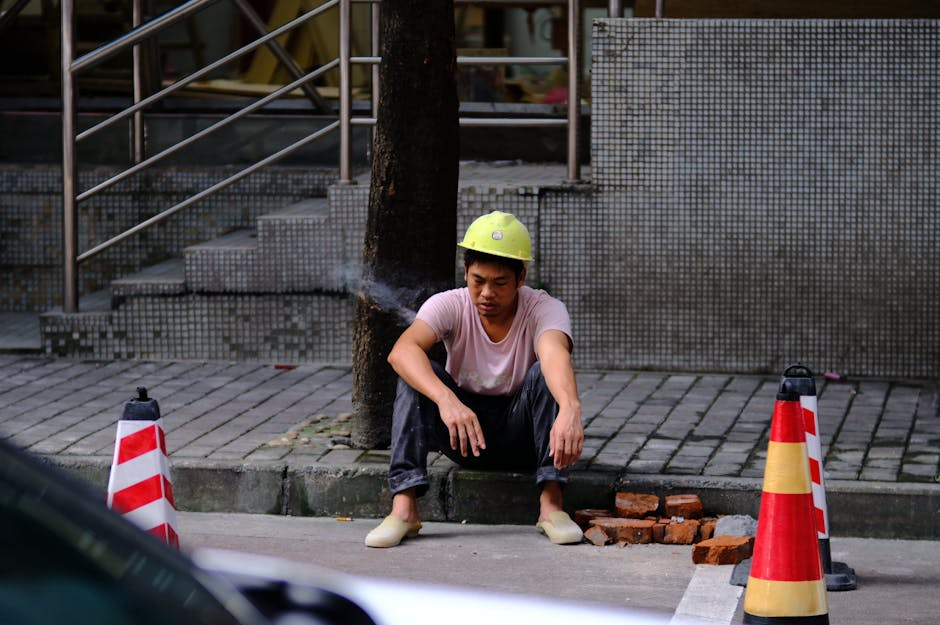traffic_cone: (742, 385, 830, 624), (780, 365, 857, 592), (105, 385, 181, 552), (797, 391, 857, 591)
